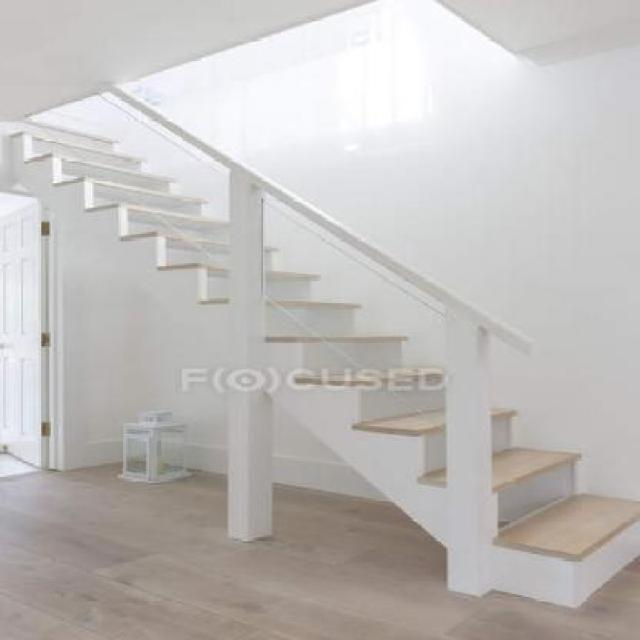stair: (11, 89, 638, 611)
